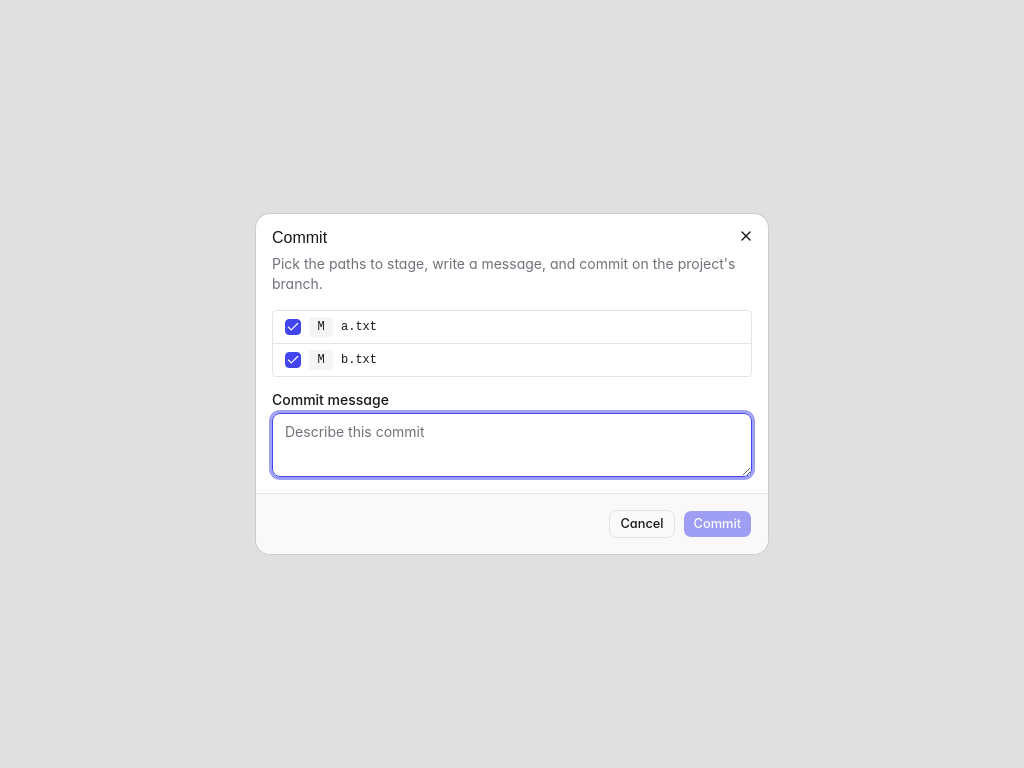
Test case: GitCommitDialog — success › collapses the body to the SHA + file-count line on ok:true
The width and height of the screenshot is (1024, 768).
Type "feat: x" into the text box with test id "git-commit-message".
click(512, 445); type("feat: x")  # box [272,413,752,477]
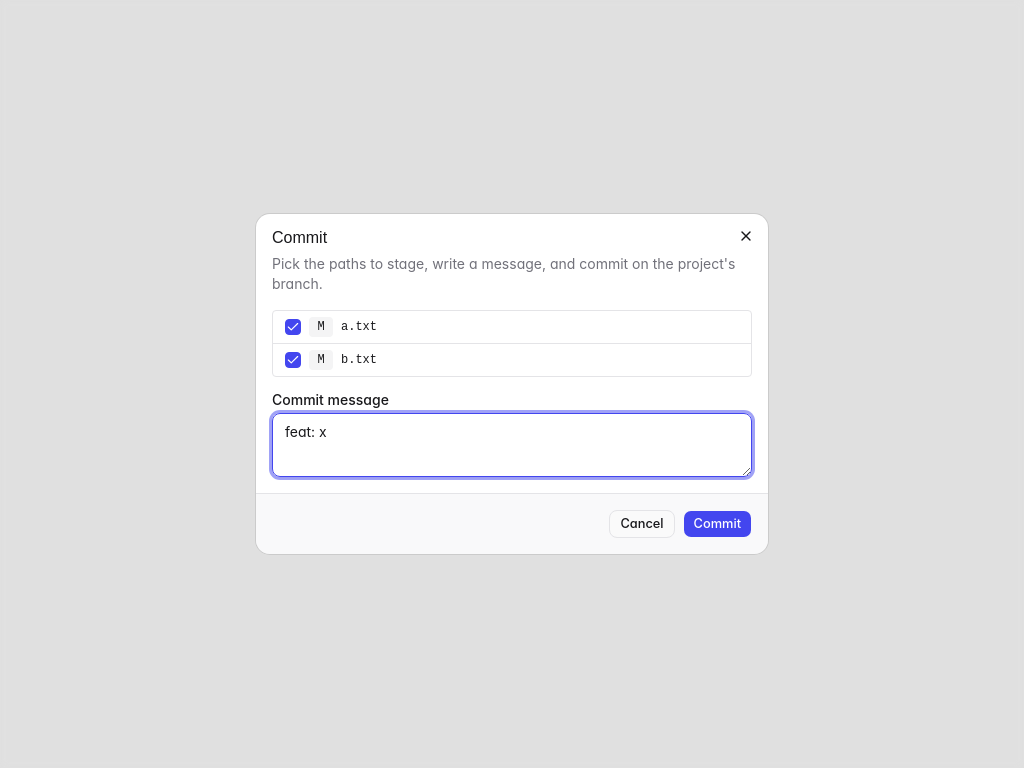
Click the button with test id "git-commit-submit".
click(717, 524)  # box [683,510,752,538]
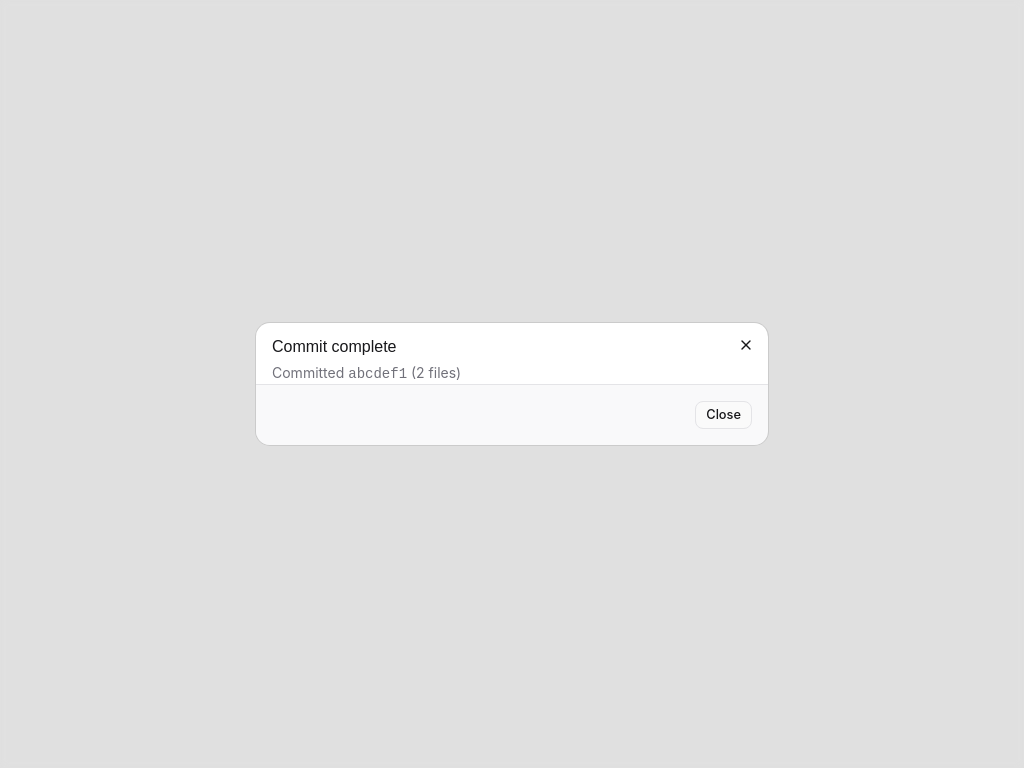
Result: the text with test id "git-commit-success-sha" reads "abcdef1" at [348,366,407,382]
Result: the element with test id "git-commit-success" shows "2 files" at [272,339,752,429]
Result: the label with test id "git-commit-message" is gone
